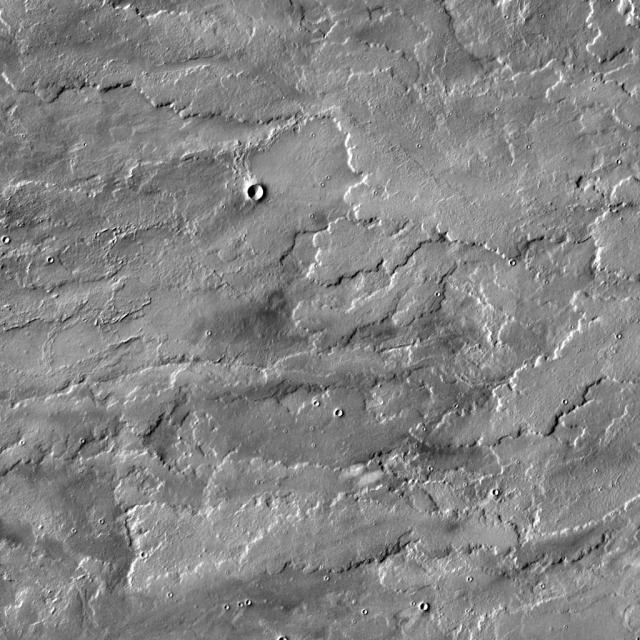crater: (250, 183, 266, 199), (336, 411, 344, 418), (422, 603, 429, 611)
